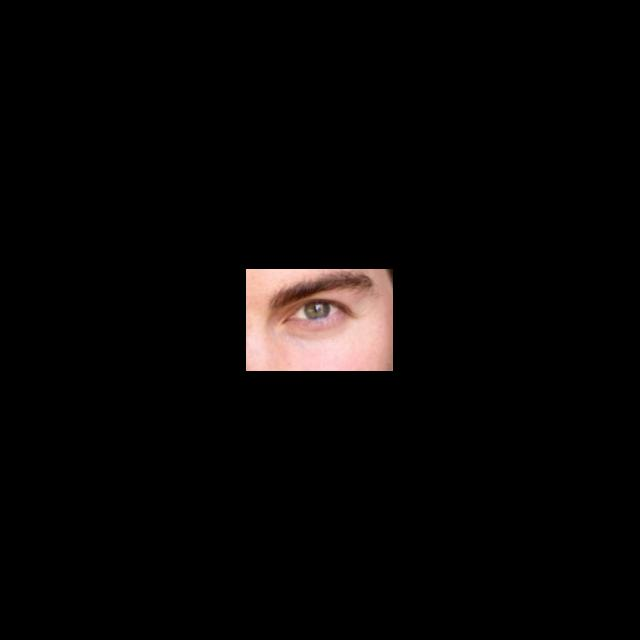eye: (293, 303, 339, 319)
iris: (306, 304, 330, 318)
